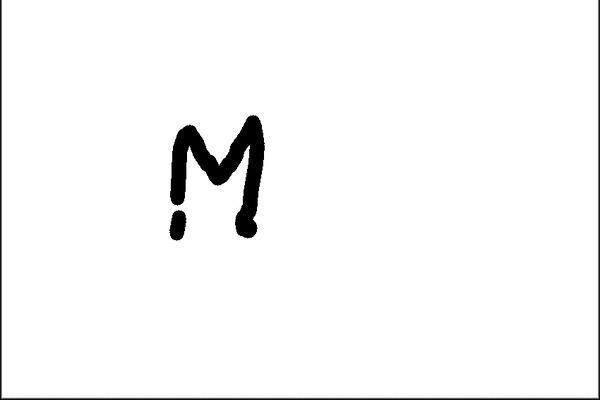M: (165, 111, 262, 243)
